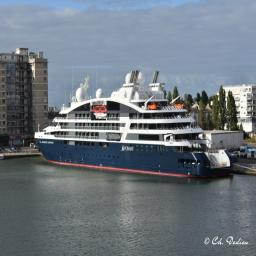cruises: (34, 68, 234, 184)
